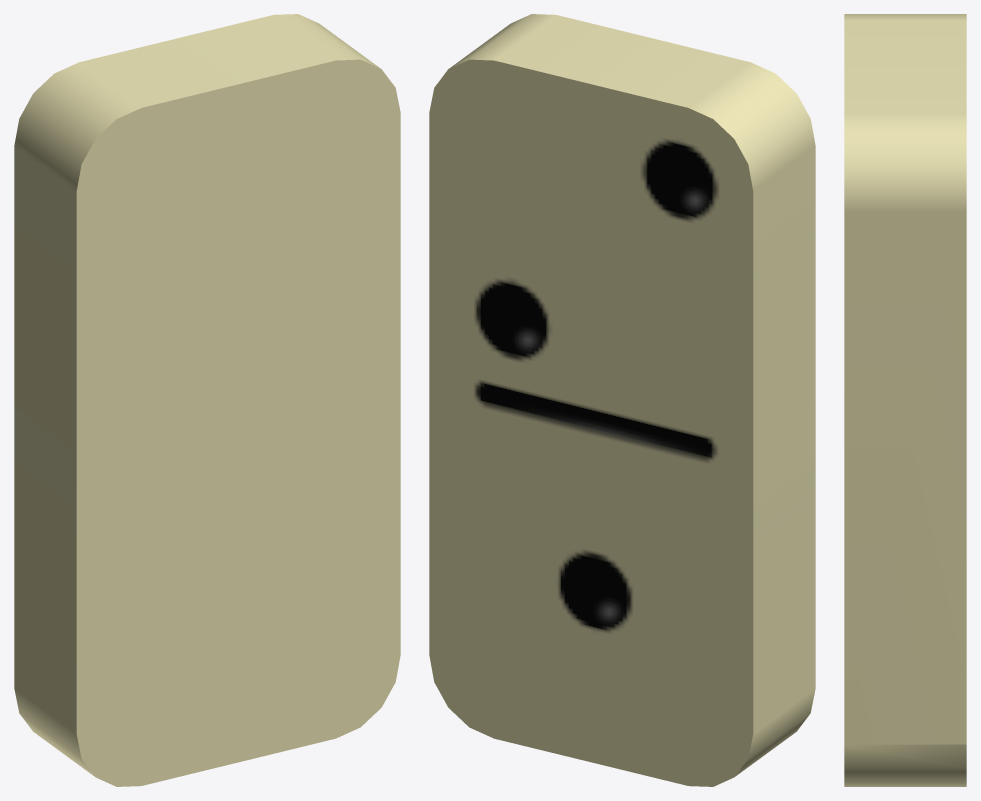
The model's file is domino_2.fbx.
The picture shows the model from 3 angles, left to right: view 1: azimuth 30°, elevation 25°; view 2: azimuth 150°, elevation 25°; view 3: azimuth 270°, elevation 25°; orthographic projection.
Visible parts, largest first — view 1: Domino; view 2: Domino; view 3: Domino.
Part boxes in pixels (left/top/right/bottom): Domino: left=14, top=14, right=400, bottom=786; Domino: left=429, top=14, right=815, bottom=786; Domino: left=844, top=14, right=966, bottom=786.
Bounding box in the file's own units: 3 × 6 × 1.
